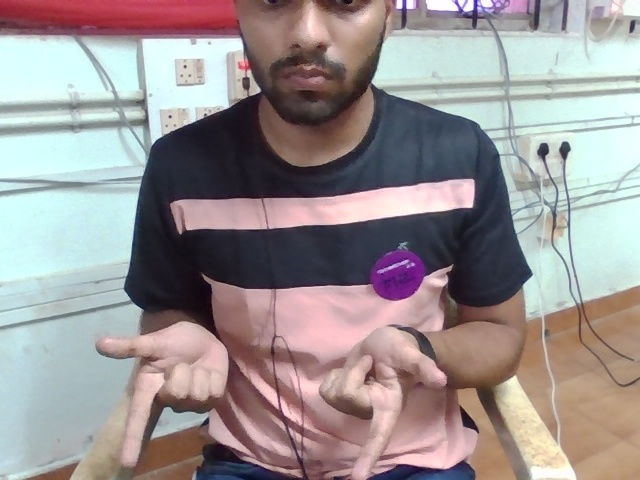go: (83, 305, 465, 480)
